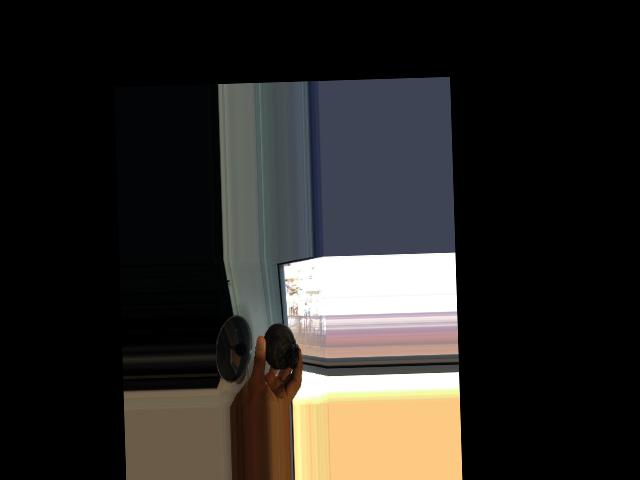beet: (263, 322, 299, 383)
